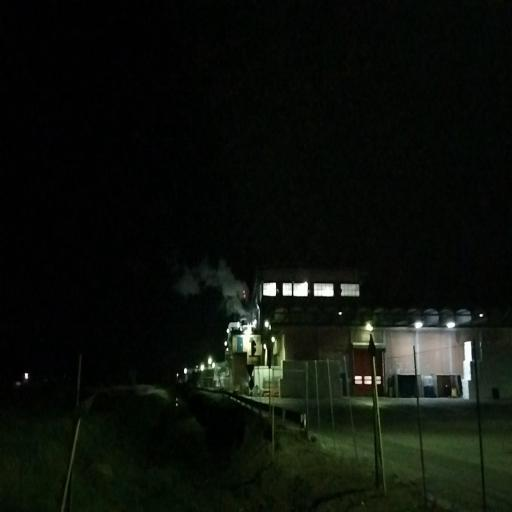leakage: (172, 256, 258, 324)
